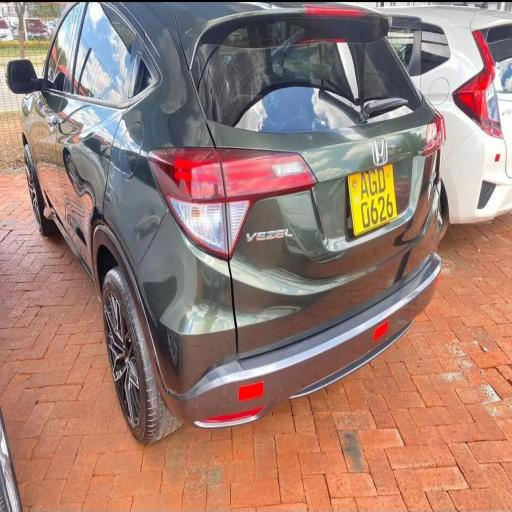number-plates: (349, 162, 402, 230)
